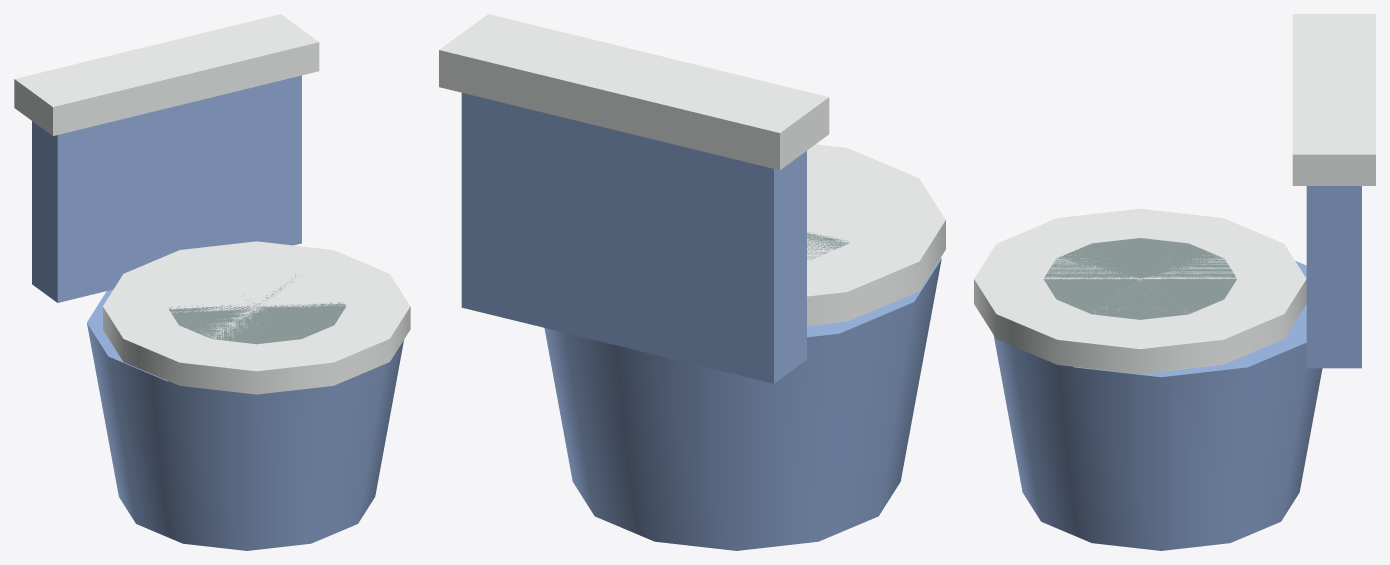
File: pottyChair.glb
The picture shows the model from 3 angles, left to right: view 1: azimuth 30°, elevation 25°; view 2: azimuth 150°, elevation 25°; view 3: azimuth 270°, elevation 25°; orthographic projection. The views are drawn at different scales.
Visible parts, largest first — view 1: pottyChair; view 2: pottyChair; view 3: pottyChair.
Boxes of the visible parts, x1=… form: pottyChair: x1=14, y1=14, x2=410, y2=550; pottyChair: x1=439, y1=14, x2=945, y2=550; pottyChair: x1=974, y1=14, x2=1375, y2=550.
Bounding box in the file's own units: 0.25 × 0.325 × 0.29.
